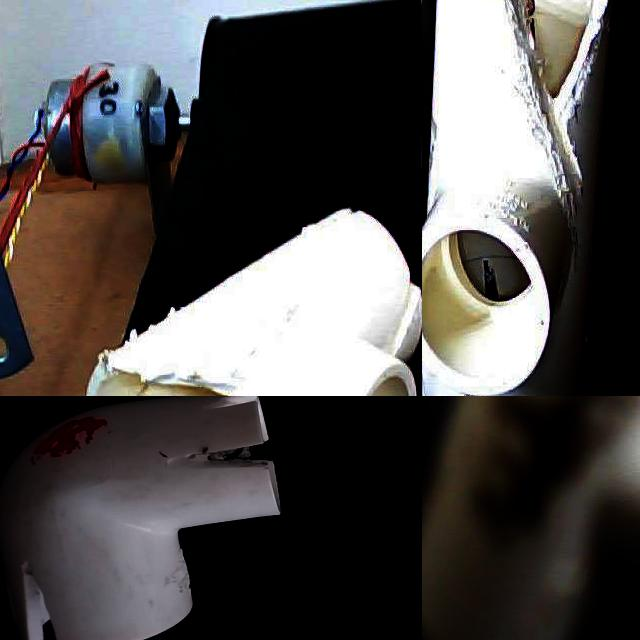Defective: (463, 0, 617, 210), (500, 396, 640, 587), (532, 0, 608, 233), (450, 242, 526, 329), (111, 352, 260, 396), (9, 555, 65, 640), (381, 257, 422, 367), (443, 358, 552, 396), (500, 0, 533, 106), (204, 434, 268, 473), (551, 178, 591, 234), (339, 197, 362, 229)
L Joint: (0, 396, 281, 640)
T Joint: (85, 207, 422, 396)
